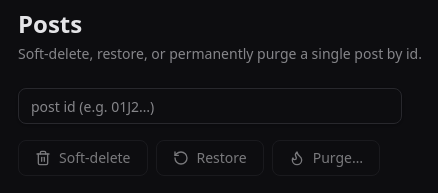
Test: PostAdminView — confirm safety › disables the actions until an id is entered
This screenshot has width=438, height=193.
Expected: the button "Soft-delete" is disabled, [18,140,148,176]
Type "post-enable" into the field labelled "post id (e.g. 01J2…)" at (210, 106), box [18,88,402,124]
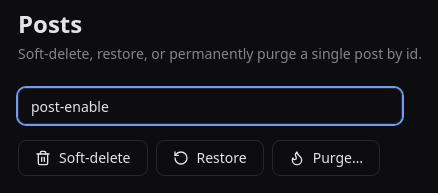
Expected: the button "Soft-delete" is enabled, [18,140,148,176]
